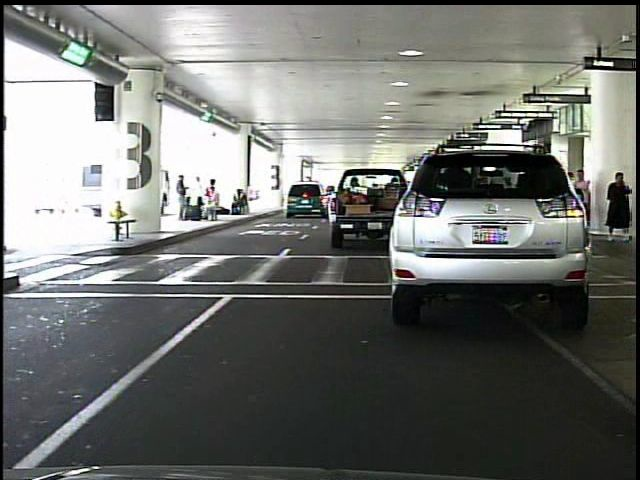person: (605, 169, 633, 245), (572, 167, 595, 239), (173, 171, 193, 224)
